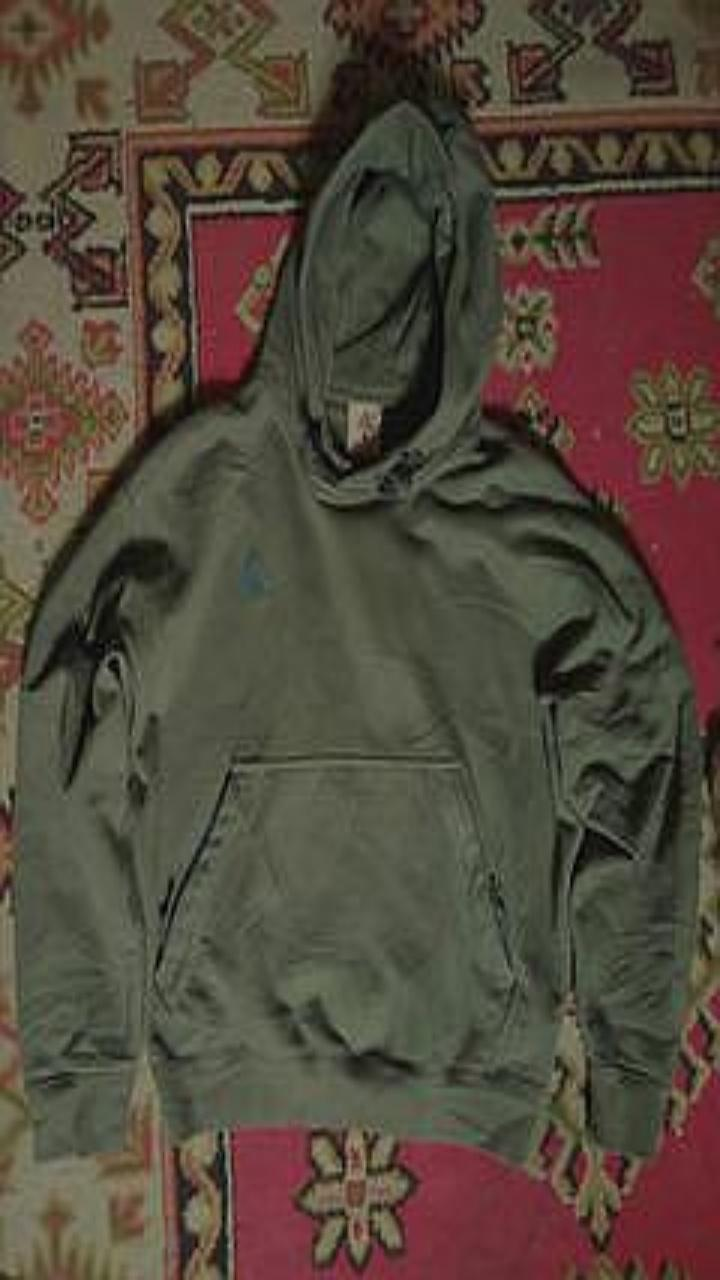Hoodie: (14, 102, 700, 1161)
